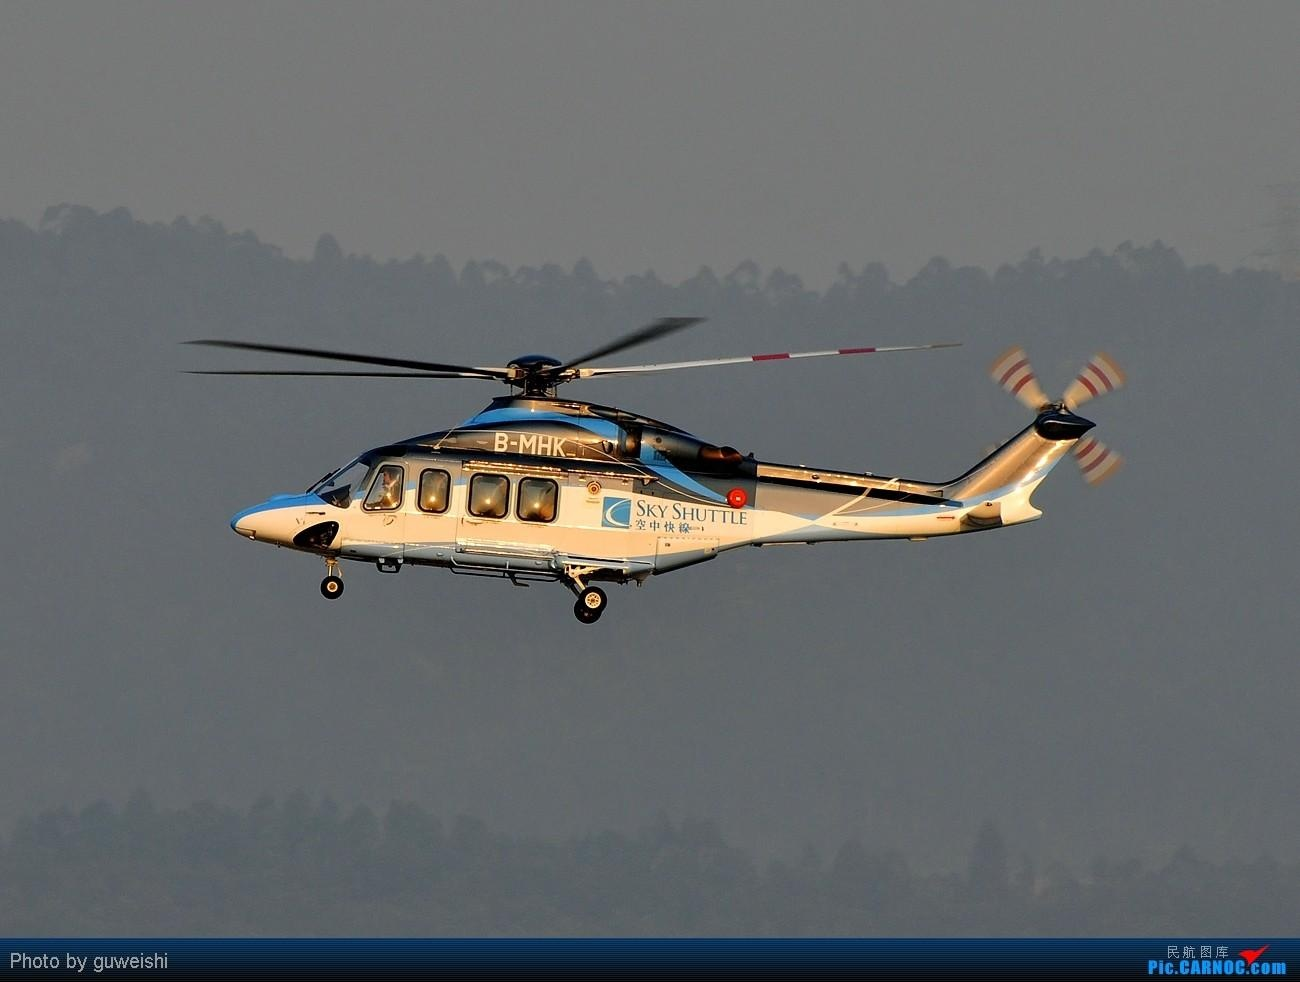airplane: (175, 305, 1141, 607)
